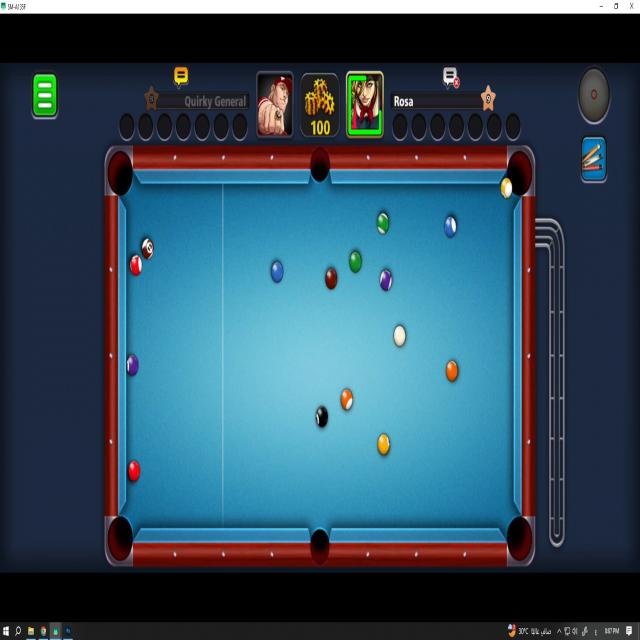object_ball: (377, 212, 389, 235), (446, 360, 458, 382), (501, 177, 512, 199), (128, 461, 140, 481), (130, 255, 141, 276), (272, 262, 283, 283), (341, 389, 352, 410), (380, 270, 391, 291), (316, 406, 327, 427), (378, 434, 389, 455), (445, 217, 456, 238), (142, 239, 153, 259), (350, 252, 361, 272), (127, 355, 138, 375), (326, 269, 337, 289)
white_cue_ball: (394, 325, 406, 347)
